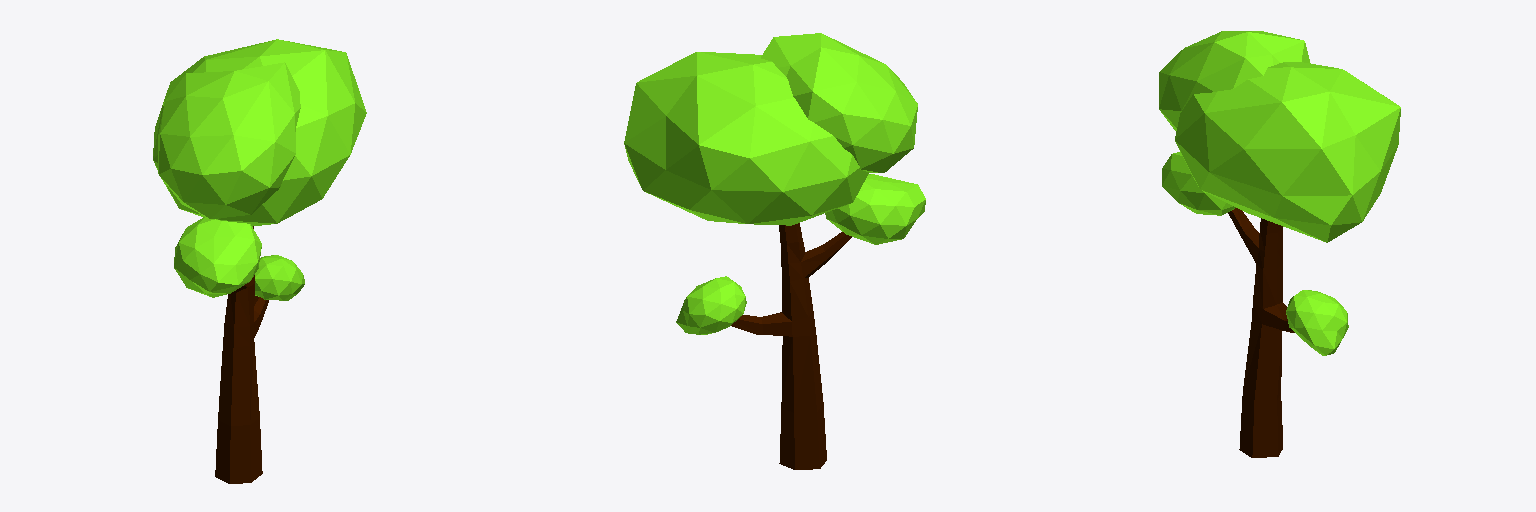
The model's file is tree2.obj.
The picture shows the model from 3 angles: view 1: azimuth 30°, elevation 25°; view 2: azimuth 150°, elevation 25°; view 3: azimuth 270°, elevation 25°; orthographic projection.
Visible parts, largest first — view 1: Tree1; view 2: Tree1; view 3: Tree1.
Boxes of the visible parts, box(x1,y1,x2,y2) form: Tree1: box(153, 39, 366, 483); Tree1: box(624, 33, 925, 469); Tree1: box(1159, 31, 1400, 457).
Bounding box in the file's own units: 79.37 × 137 × 73.